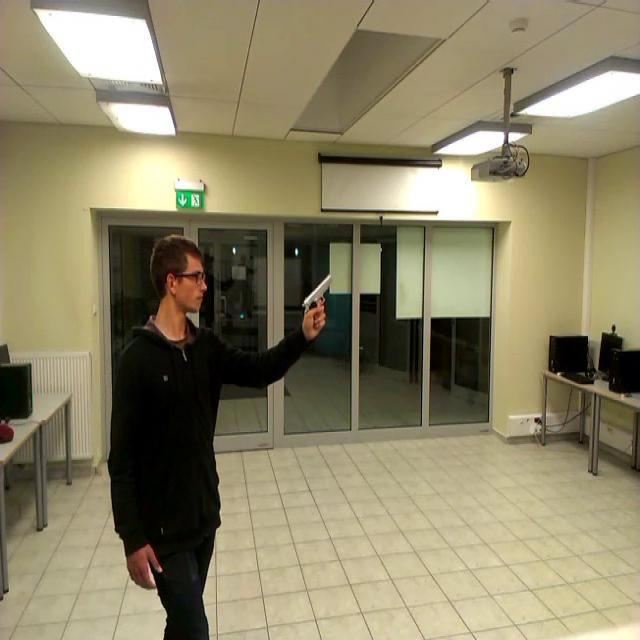weapon: (300, 273, 332, 329)
